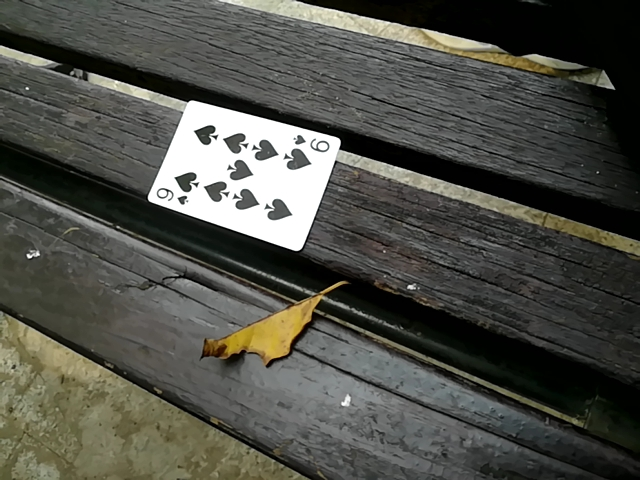ht 9: (147, 98, 335, 245)
